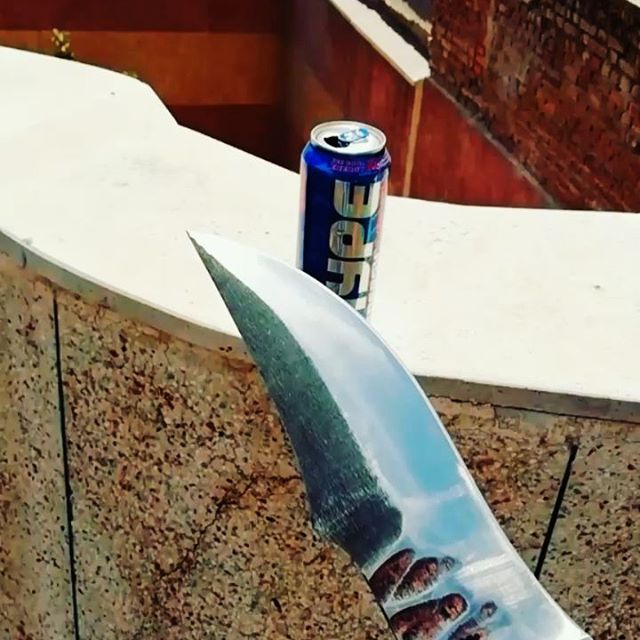knife: (187, 230, 592, 640)
